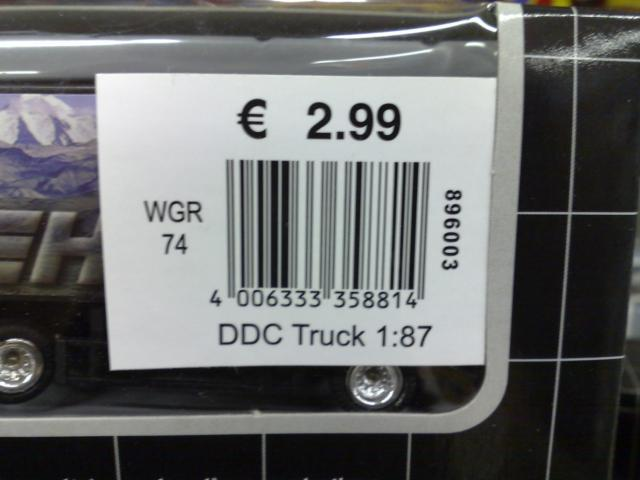Barkod: (220, 158, 429, 286)
